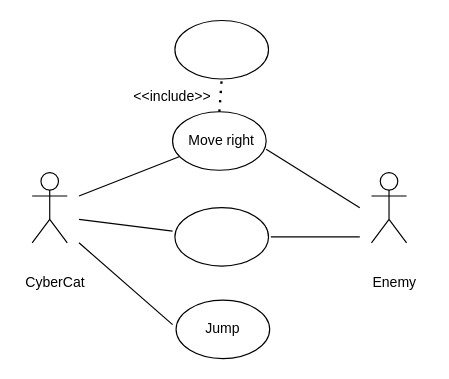
Image size: 449x379. Some labels were removed from this diagram. The centre of each missing label's shape, as x and y in pixels:
collect mushrooms: the point at 221,49
Move left: the point at 221,236
